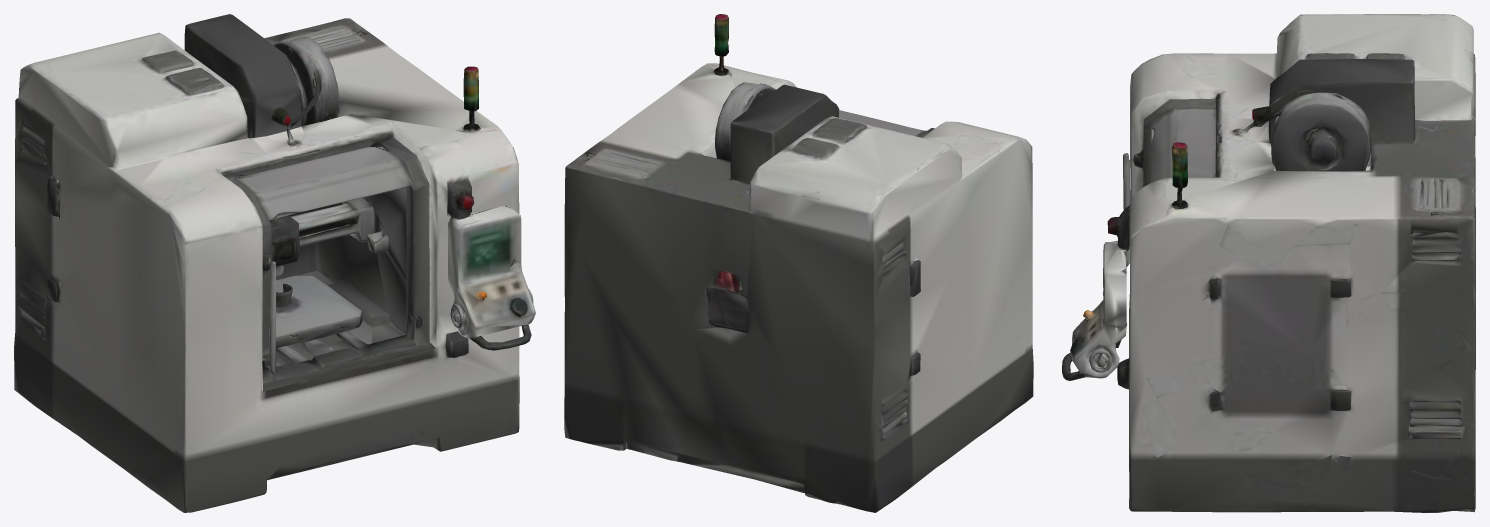
The model's file is industrial_3d_printer.glb.
3 views of the same model, side by side, from view 1: azimuth 30°, elevation 25°; view 2: azimuth 150°, elevation 25°; view 3: azimuth 270°, elevation 25° (orthographic). The views are drawn at different scales.
Parts seen in each view (by area): view 1: geometry_0; view 2: geometry_0; view 3: geometry_0.
Part boxes in pixels (x1,y1,x2,y2): geometry_0: [14, 14, 535, 512]; geometry_0: [564, 14, 1033, 512]; geometry_0: [1062, 14, 1475, 512].
Size of the model in its own units: 0.9704 by 0.9584 by 1.
1 material, 1 textured.
